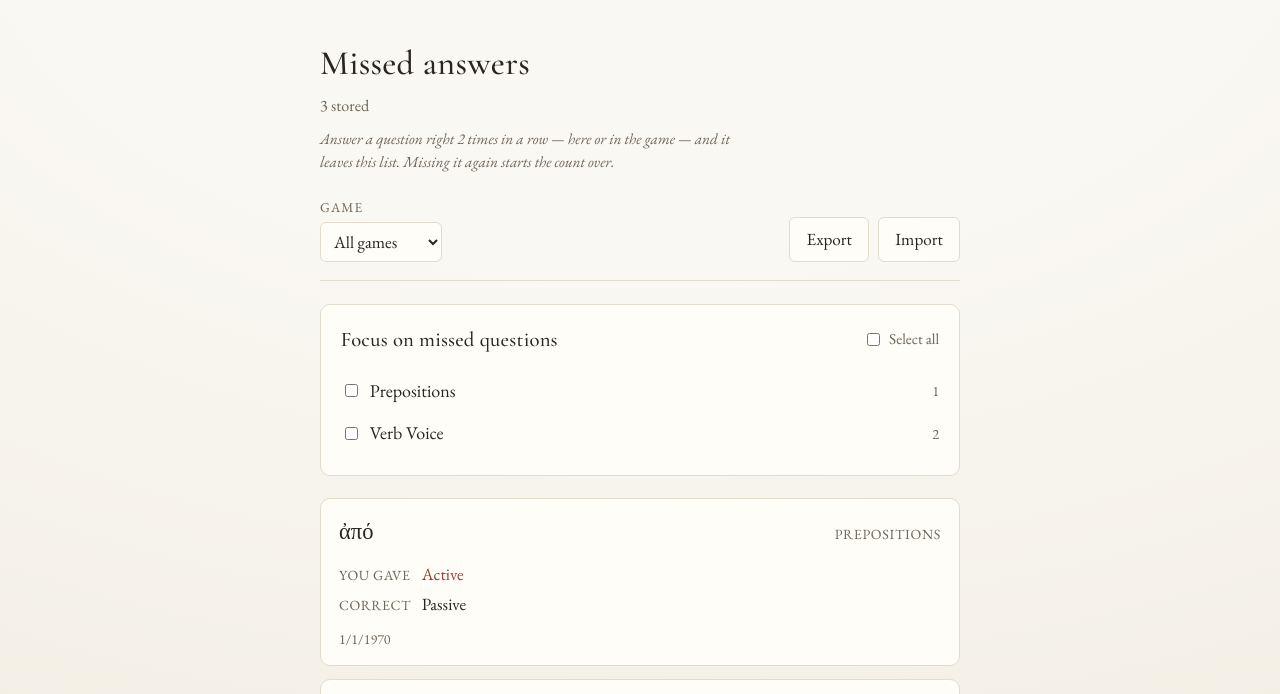
Test: Review focus panel › links the launch to the checked games with the question total
What coordinates should you click on to do the following:
click the checkbox labelled "Verb Voice 2"
I would click on:
 (351, 433)
Its box is [345, 427, 358, 440].
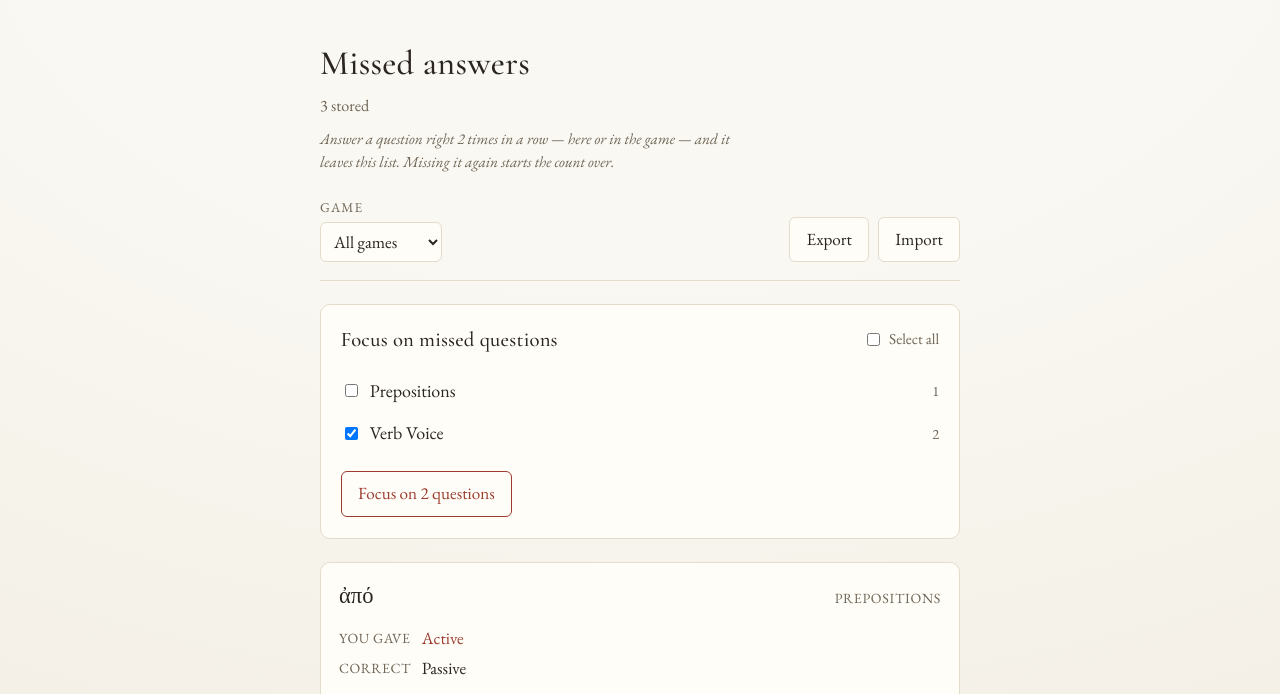
Result: the link with class "focus-launch" shows "2" at [341, 471, 512, 516]
